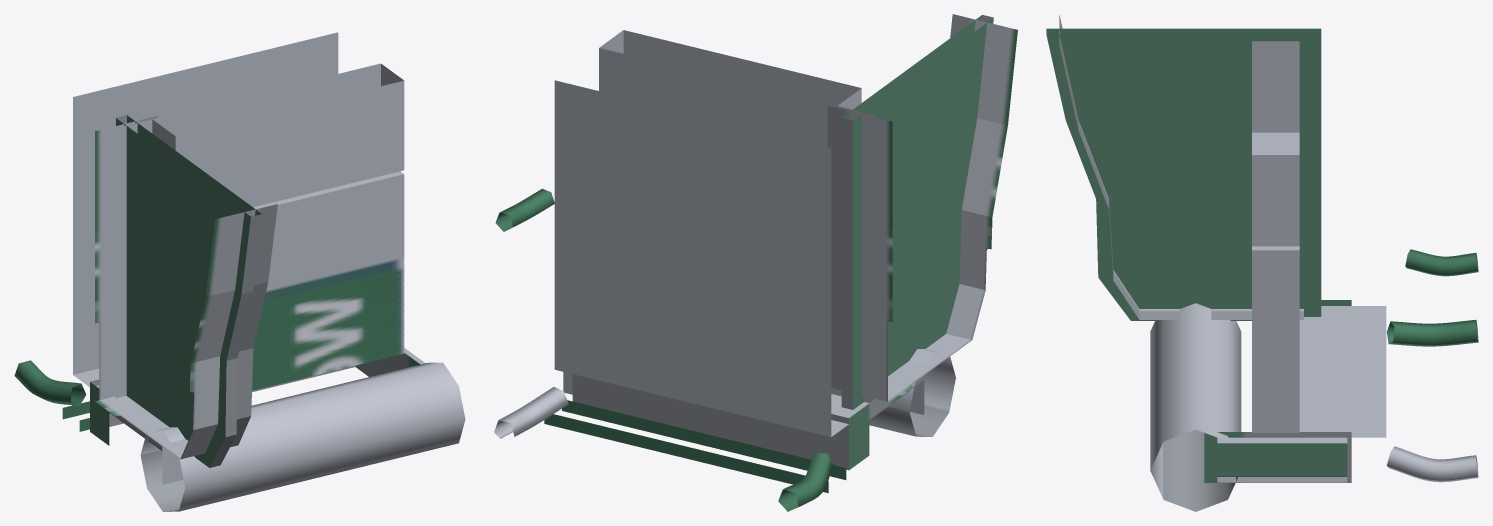
The model's file is section-1.obj.
3 views of the same model, side by side, from view 1: azimuth 30°, elevation 25°; view 2: azimuth 150°, elevation 25°; view 3: azimuth 270°, elevation 25° (orthographic). The views are drawn at different scales.
Size of the model in its own units: 0.8086 by 0.895 by 0.998.
